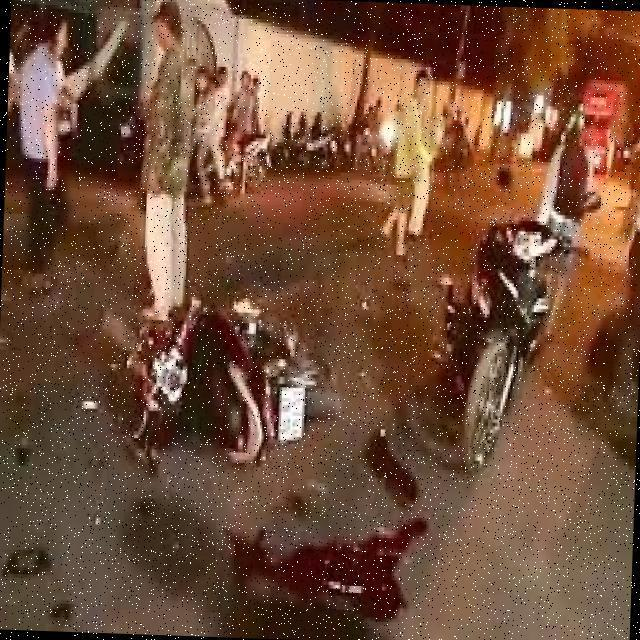accident: (105, 251, 361, 516)
